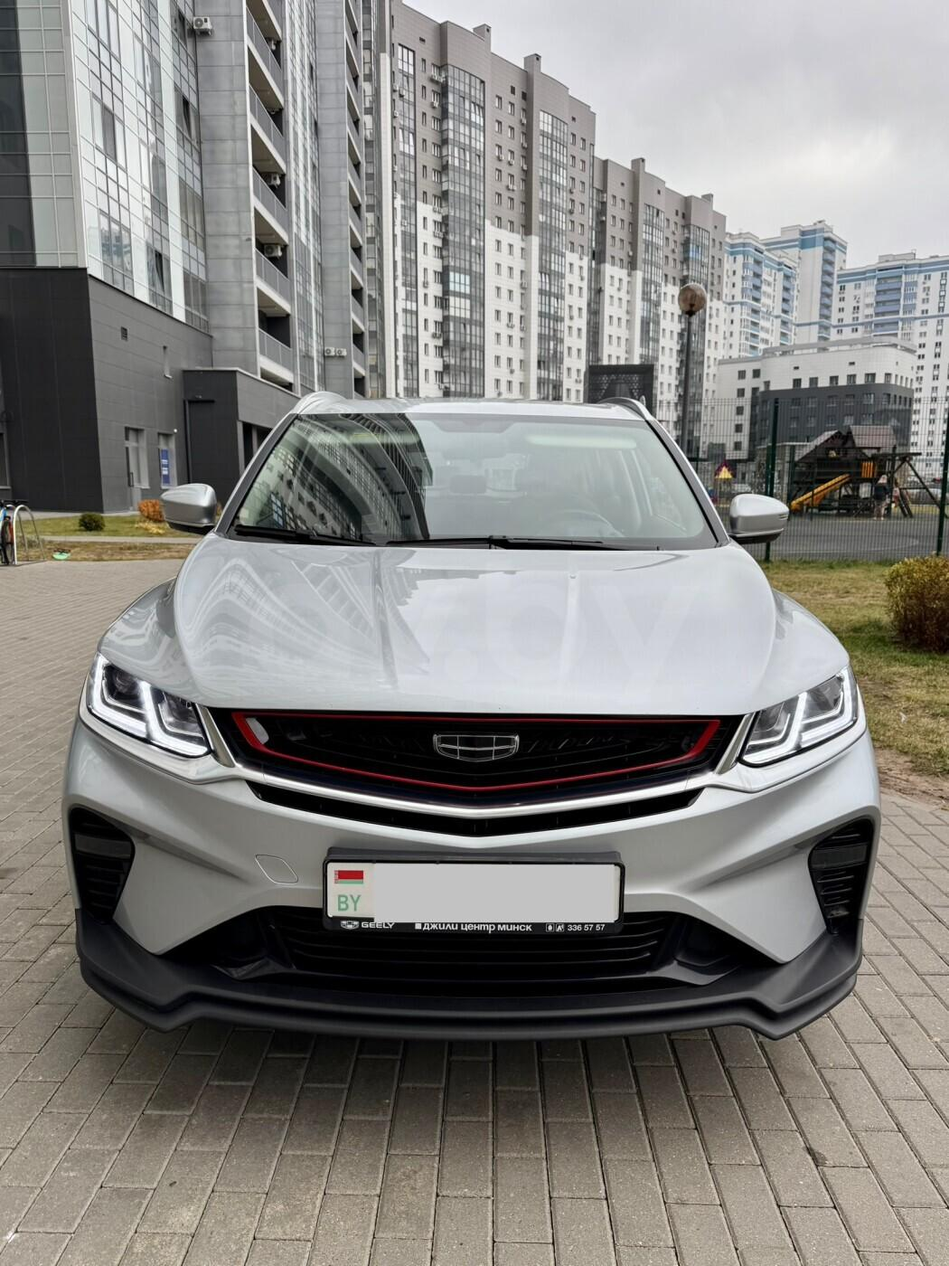Coolray_2019-2023: (63, 385, 886, 1063)
